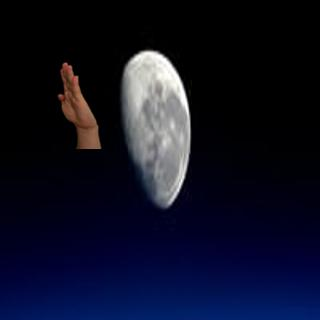RIGHT: (53, 58, 98, 131)
